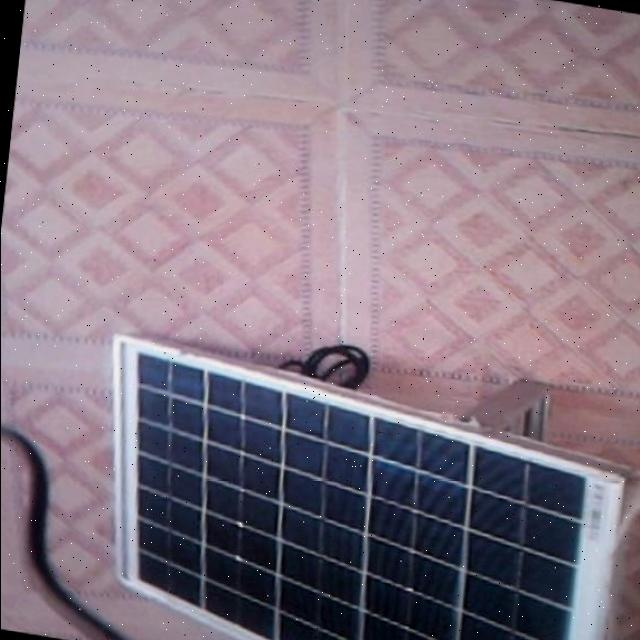Normal Solar Panel: (82, 333, 628, 640)
